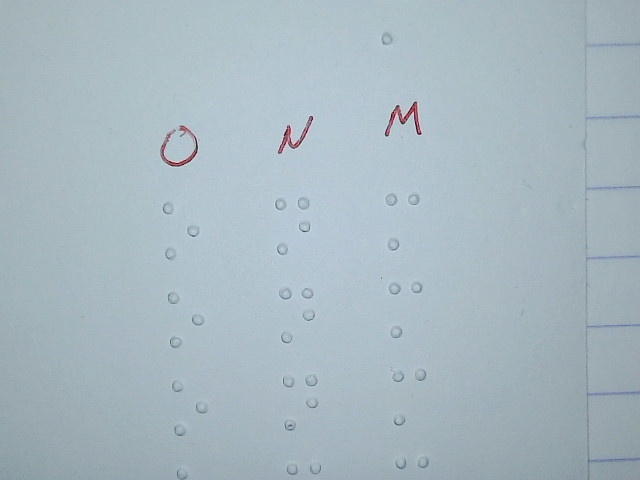M: (382, 189, 423, 252), (385, 278, 426, 341), (389, 364, 430, 427)
N: (272, 194, 313, 257), (277, 284, 318, 347), (280, 370, 321, 433)
O: (161, 199, 202, 262), (165, 288, 206, 351), (169, 376, 210, 439)
